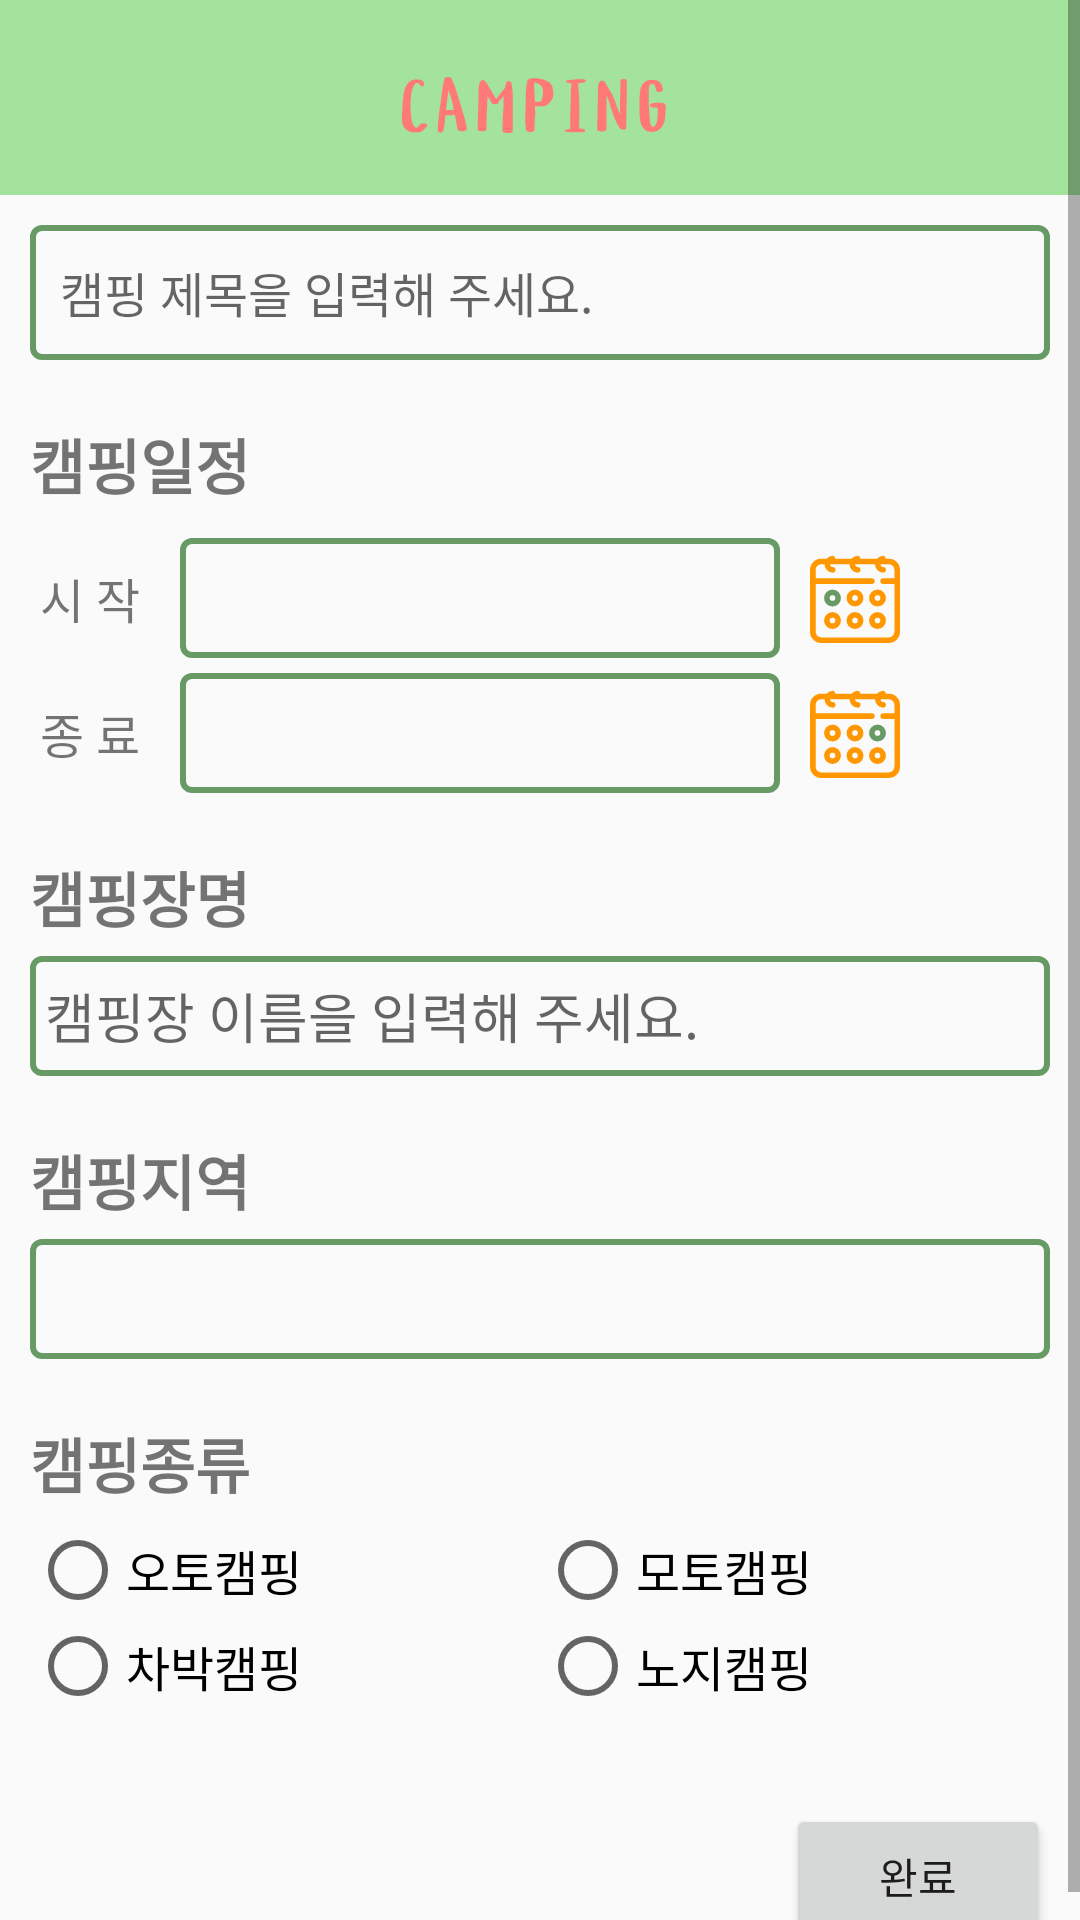

Where icons sit on this 1080*1920 app screen, as (x1, y1, x2, y2):
calendar: (810, 555, 900, 643)
calendar end: (810, 690, 900, 778)
